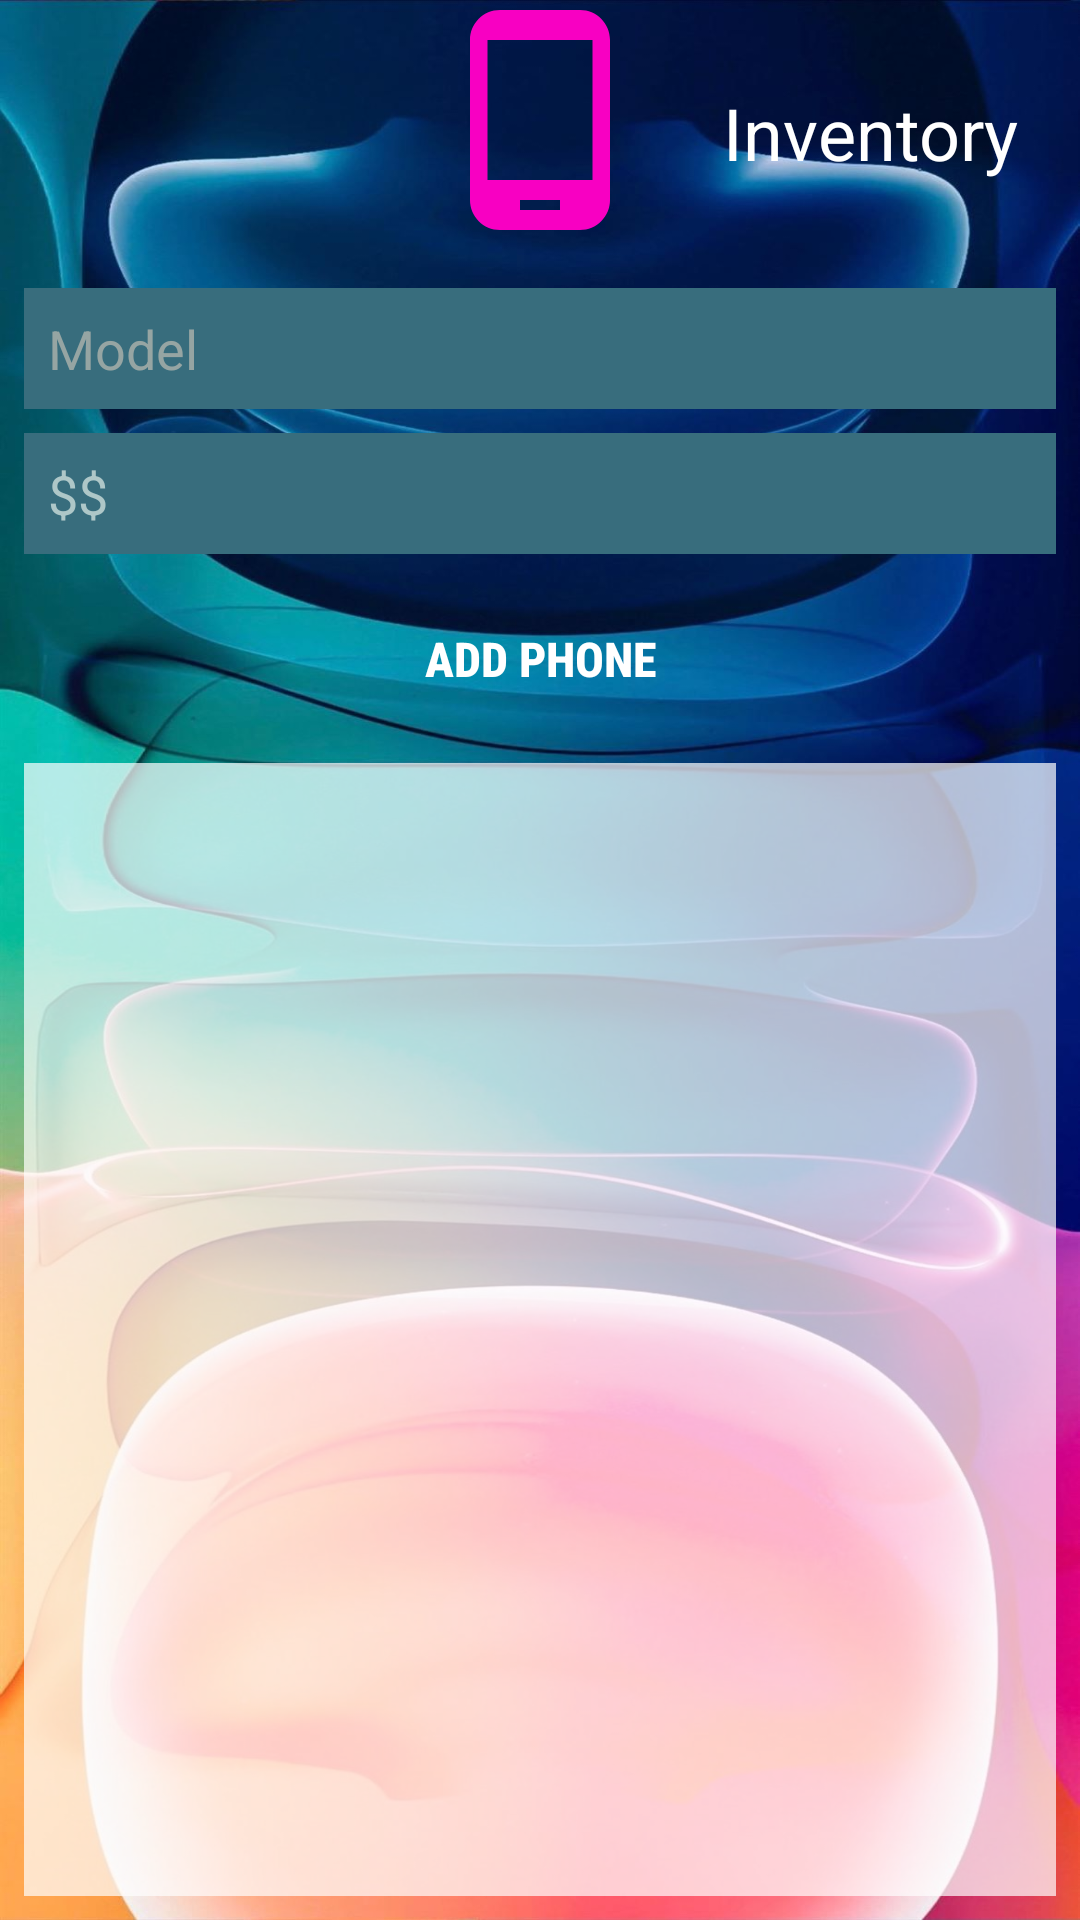

Named icons in this screenshot (1080x1920) and their centers, point (x, y):
phone: point (515, 120)
